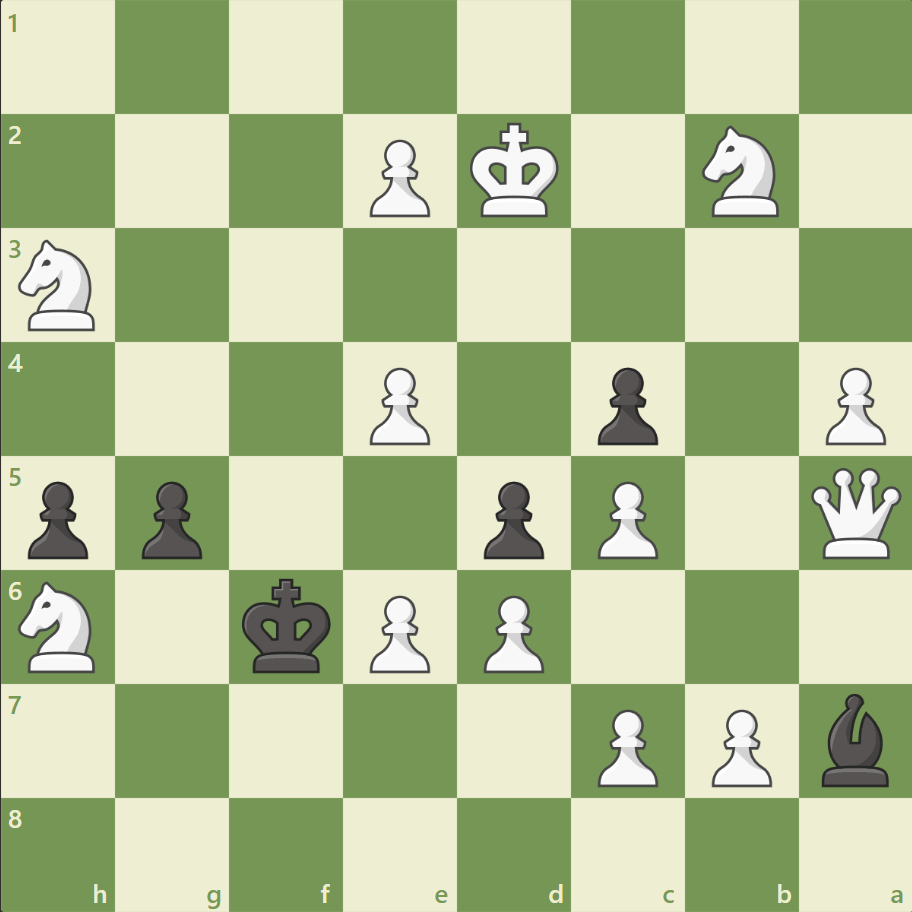K: (465, 117, 565, 225)
N: (11, 234, 108, 337), (11, 575, 108, 677), (692, 121, 789, 223)
P: (701, 700, 776, 791), (474, 586, 549, 677), (588, 700, 662, 791), (361, 586, 435, 677), (588, 473, 662, 564), (815, 359, 889, 450), (361, 359, 435, 450), (361, 132, 435, 223)
Q: (805, 463, 904, 562)
b: (812, 687, 896, 790)
k: (238, 571, 338, 679)
p: (474, 473, 549, 564), (133, 473, 208, 564), (20, 473, 95, 564), (588, 359, 662, 450)
